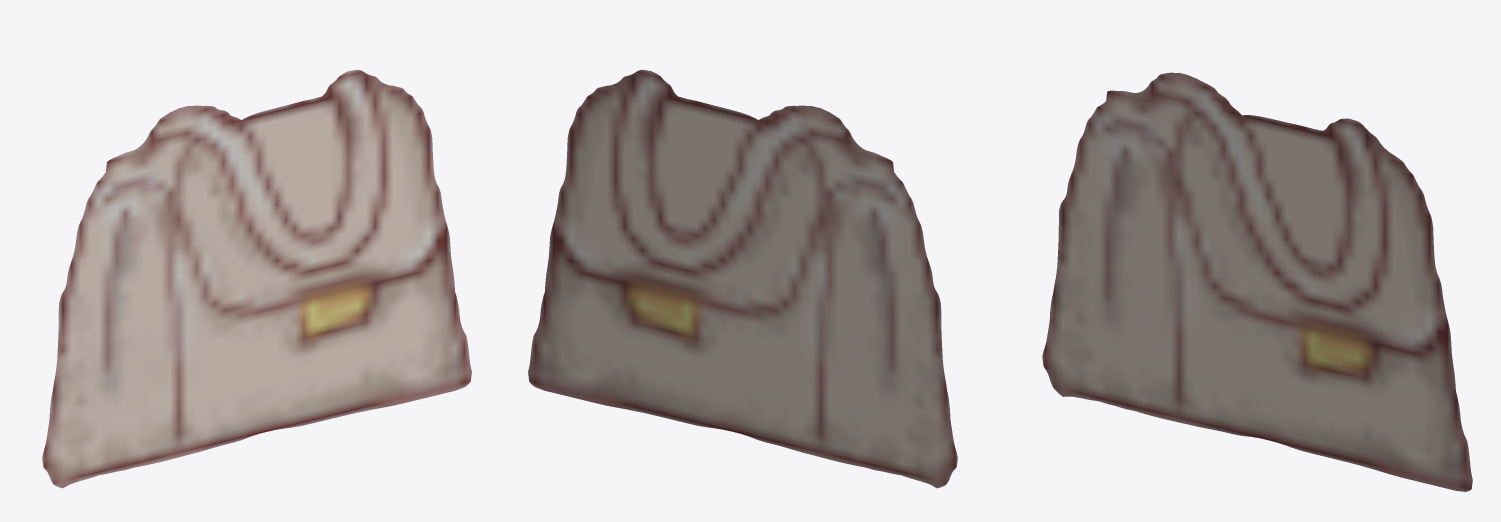
Rendered from giftgoods036.fbx.
3 views of the same model, side by side, from view 1: azimuth 30°, elevation 25°; view 2: azimuth 150°, elevation 25°; view 3: azimuth 330°, elevation 25° (orthographic).
Parts seen in each view (by area): view 1: giftgoods036; view 2: giftgoods036; view 3: giftgoods036.
Boxes of the visible parts, x1,y1,x2,y2 form: giftgoods036: (42,69,471,488); giftgoods036: (528,69,957,488); giftgoods036: (1042,72,1472,491).
Size of the model in its own units: 0.3971 by 0.3185 by 0.
